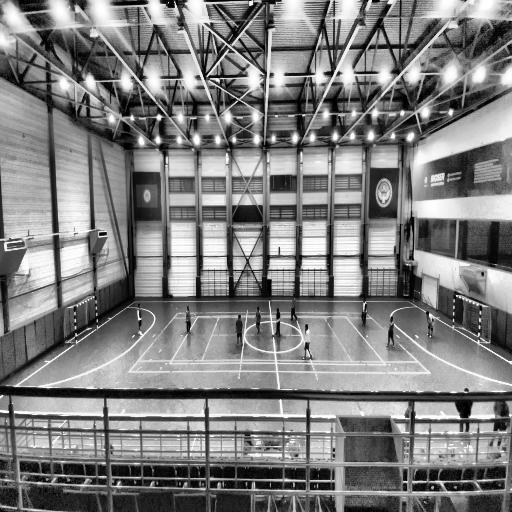ball: (271, 331, 276, 339)
player: (452, 392, 477, 433), (302, 322, 313, 362), (386, 315, 396, 349), (425, 310, 435, 339), (236, 313, 244, 349), (136, 301, 144, 337), (360, 294, 368, 328), (289, 292, 298, 322), (255, 305, 262, 338), (275, 307, 282, 339), (185, 305, 192, 335)
